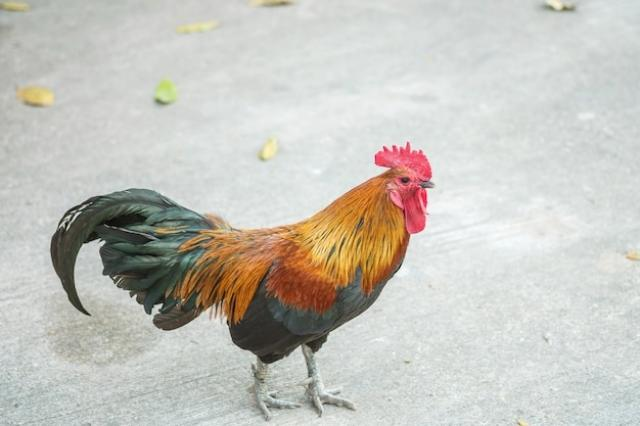Chicken: (48, 141, 436, 419)
